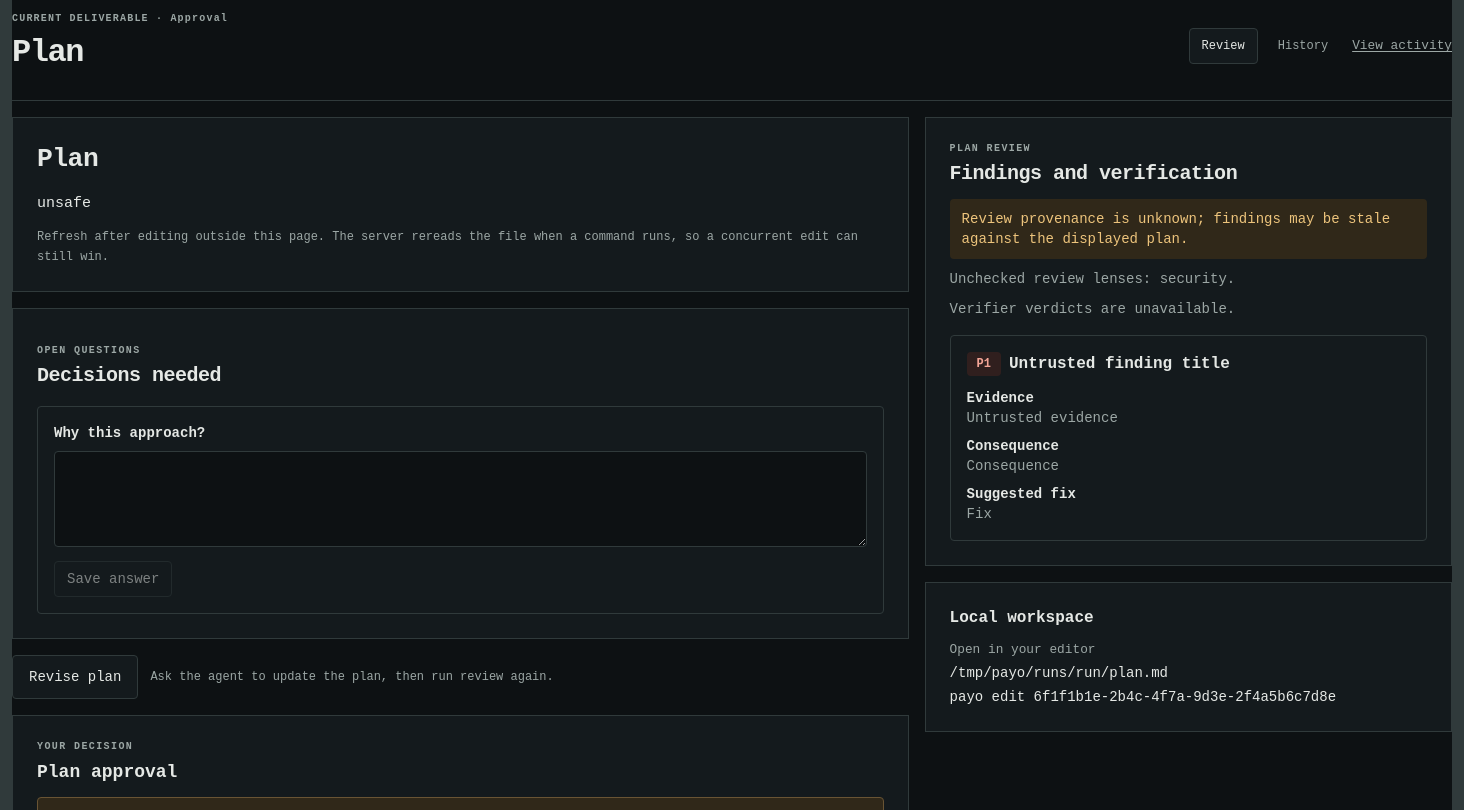
Scenario: saves individual answers, refreshes the view, then allows approval
Later steps or results of the test are not shown.
Type "Because the constraint matters." into the text box labelled "Why this approach?".
click(460, 499); type("Because the constraint matters.")  # box [54,451,867,547]
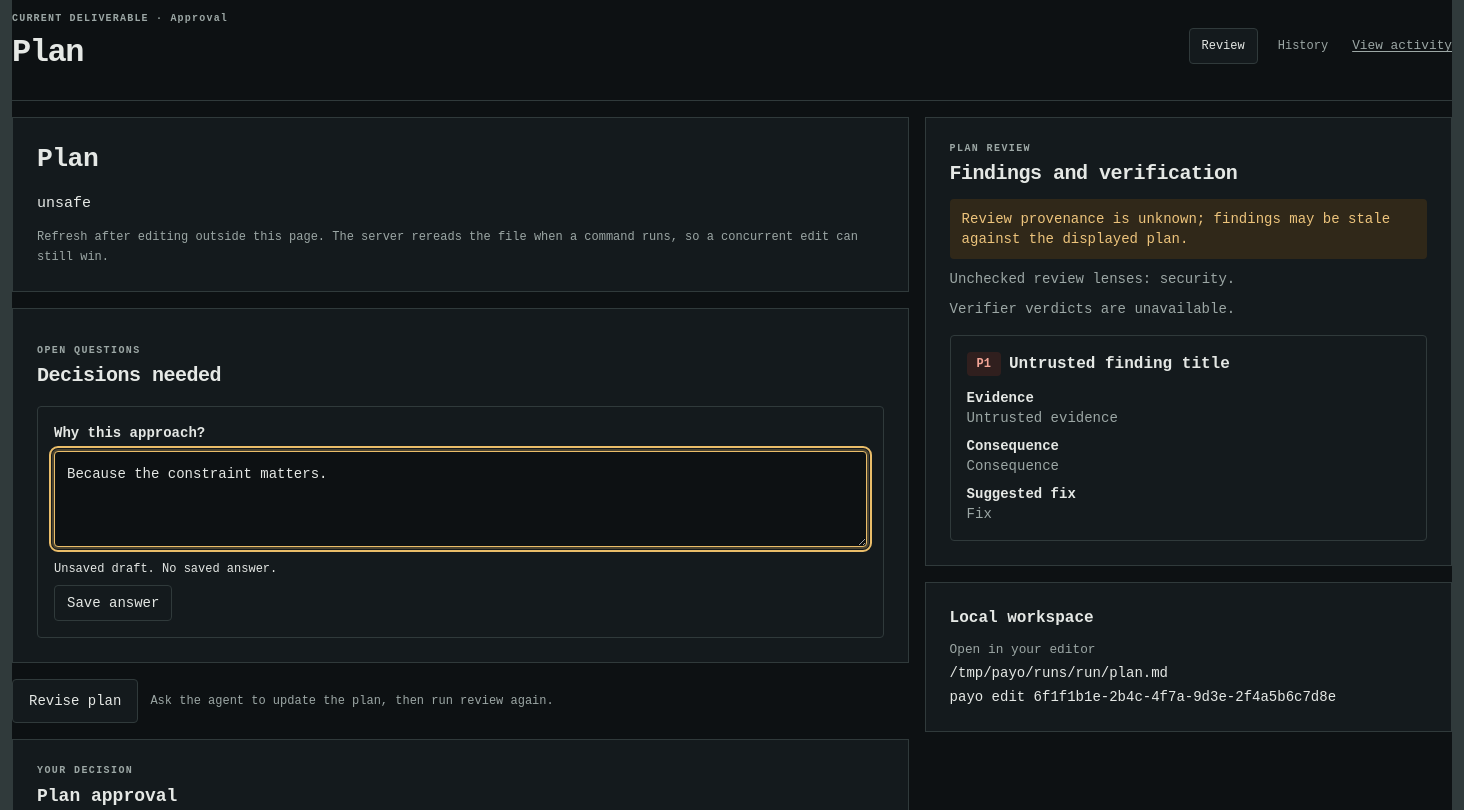
Click the button "Save answer".
click(113, 603)  # box [54,585,172,621]
(page scrolled)
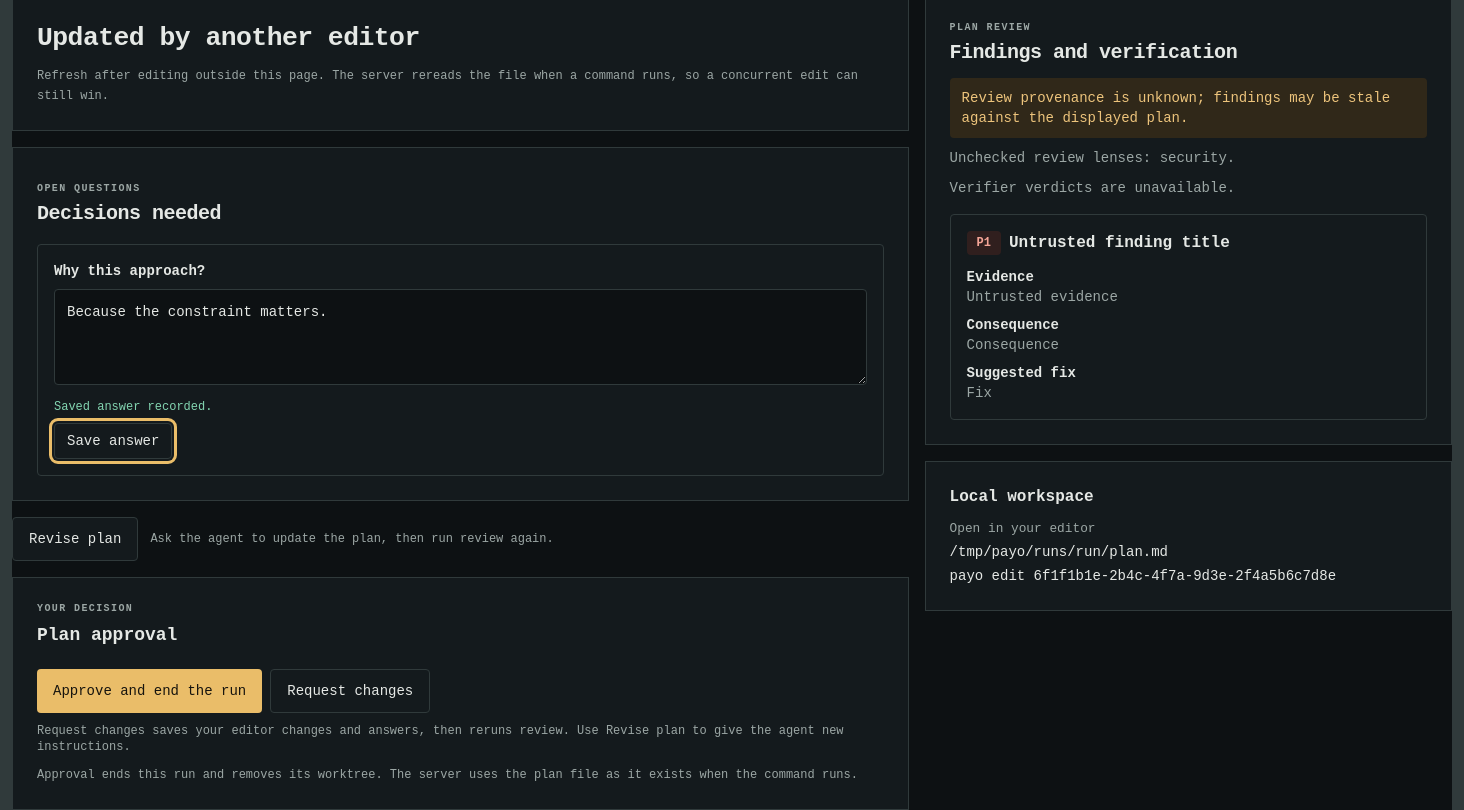
Result: the heading "Updated by another editor" is shown at [37,23,420,53]
Result: the button "Approve and end the run" is enabled at [37,669,262,713]
